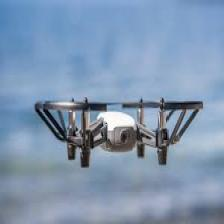drone: (34, 99, 203, 164)
